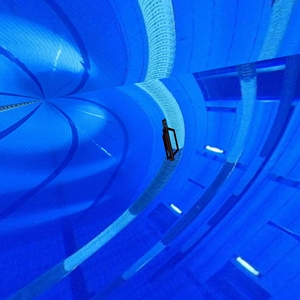submarine: (153, 116, 183, 165)
